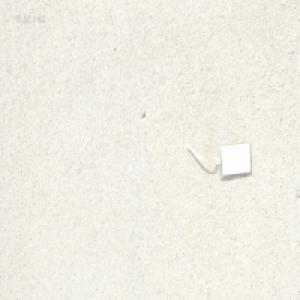LuggageTag: (181, 134, 252, 180)
